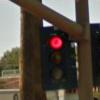Traffic light: (31, 23, 85, 97)
